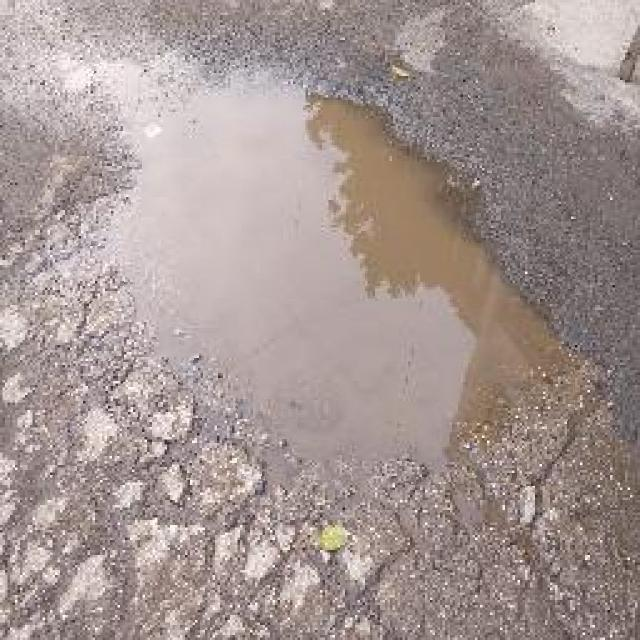puddle: (72, 67, 579, 485)
